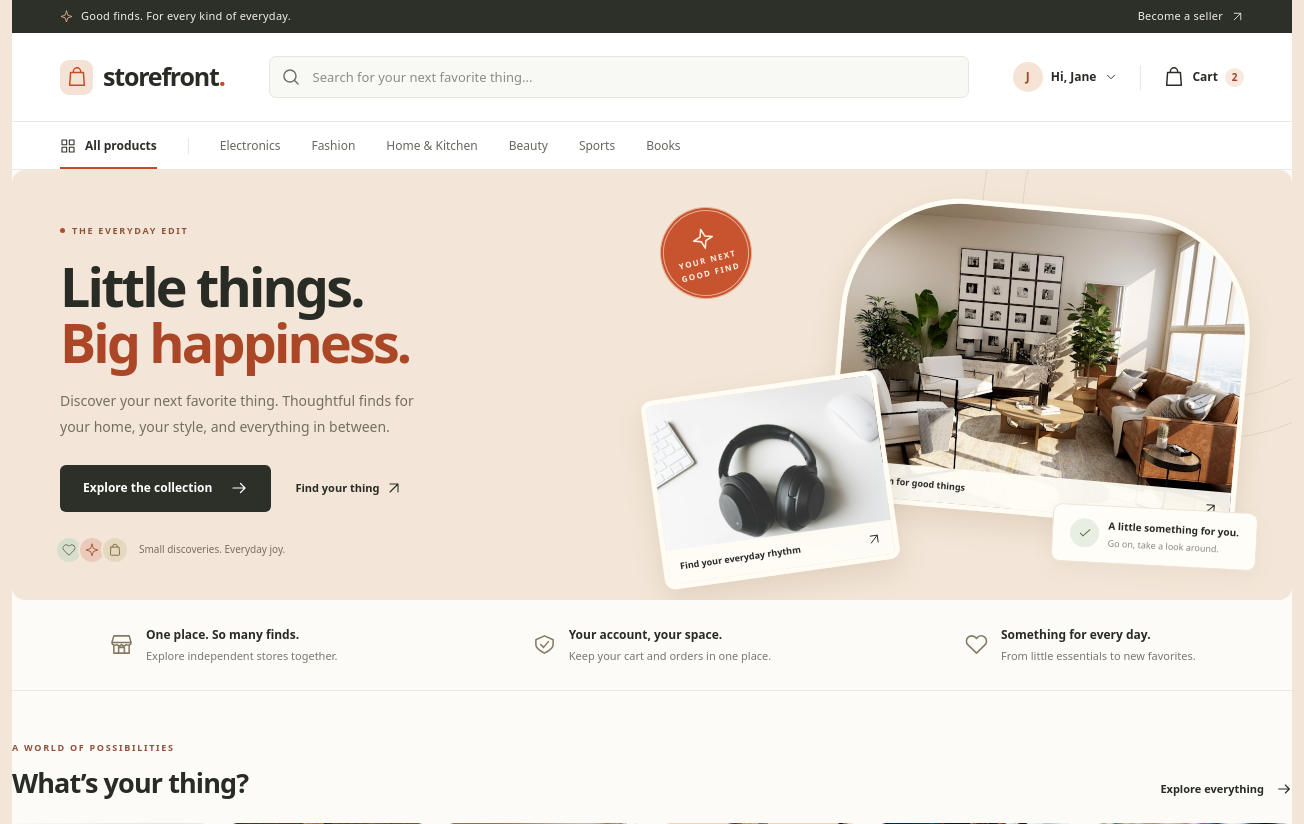
it: Storefront shopping flows › clears the signed-in menu and cached cart when signing out
Expected: the button with aria-label "Open cart" reads "Cart 2", [1163,61,1244,93]
Click the button with aria-label "Account options" at (1066, 77), box [1013,62,1118,92]
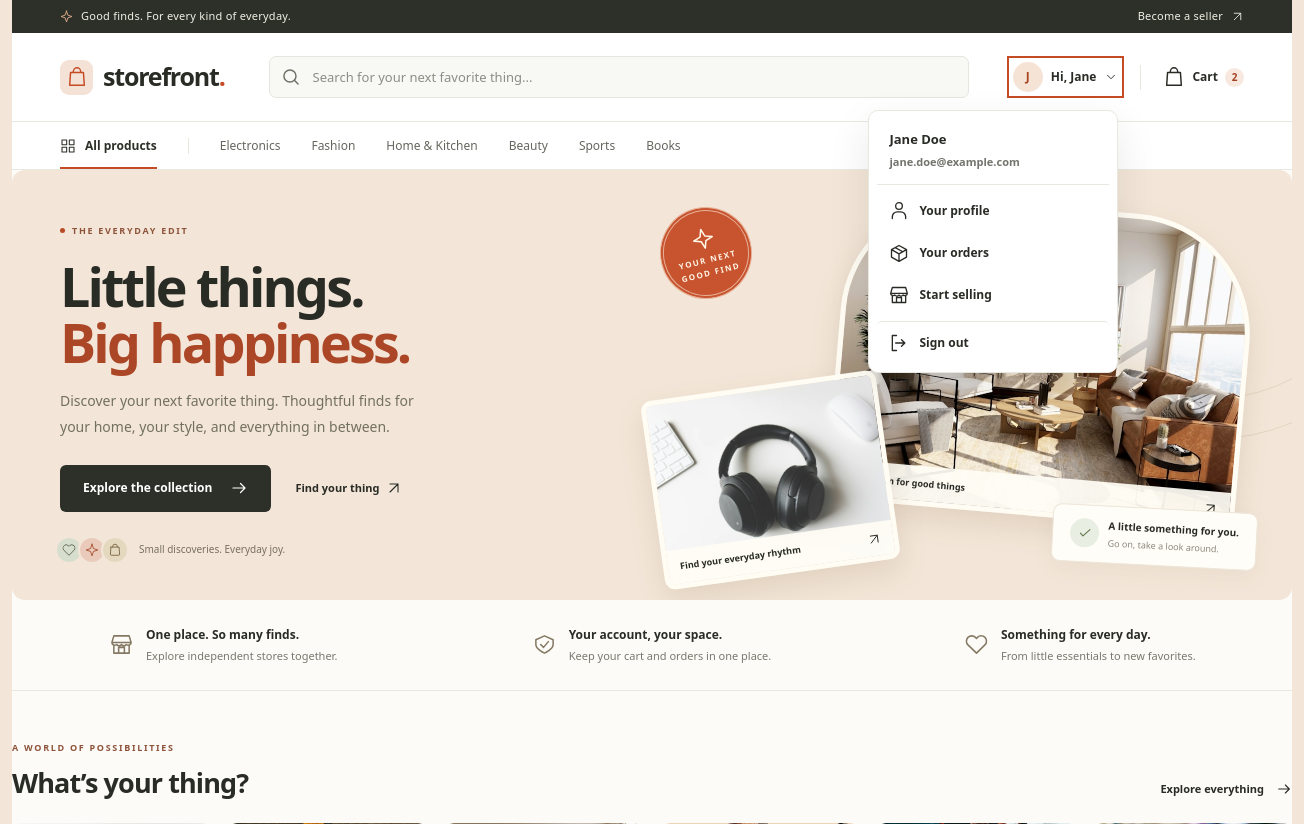
Click the button "Sign out" at (993, 342), box [877,321,1109,364]
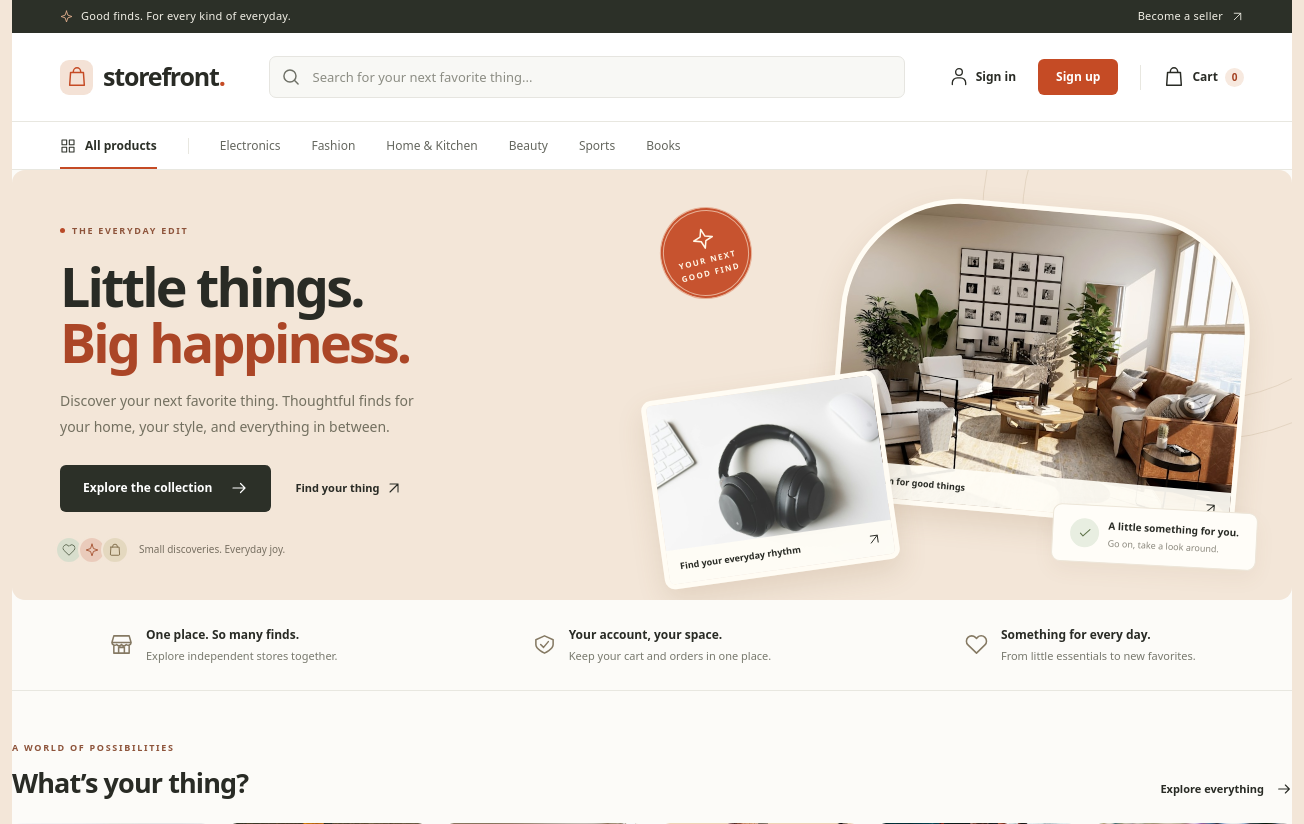
Expected: the link "Sign in" is shown, [949,67,1016,87]
Expected: the button with aria-label "Open cart" reads "Cart 0", [1163,61,1244,93]
